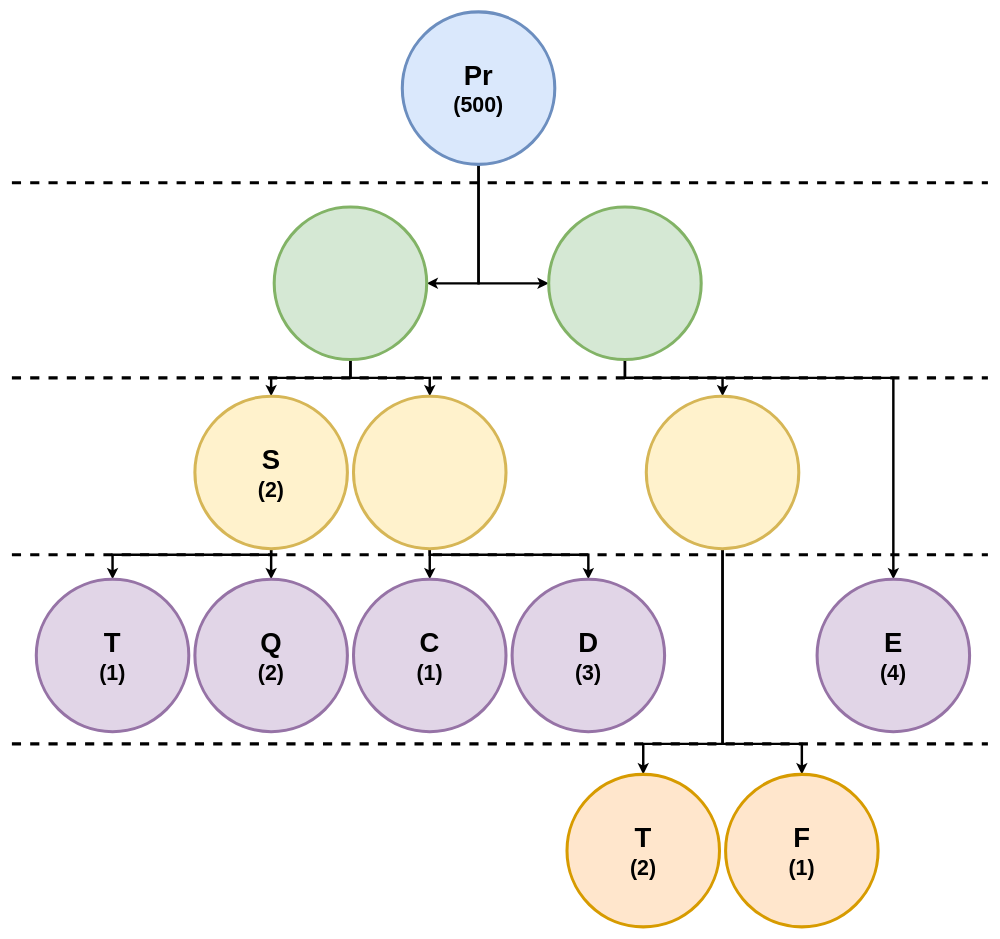
Some shapes in this 1000 by 939 pixel diagram are drawn without their labels. Each missing label, with the box of its shape:
A (3 ): (272, 205, 428, 361)
B (1 ): (547, 205, 702, 361)
P (2 ): (352, 394, 507, 550)
R (5 ): (644, 394, 800, 550)
